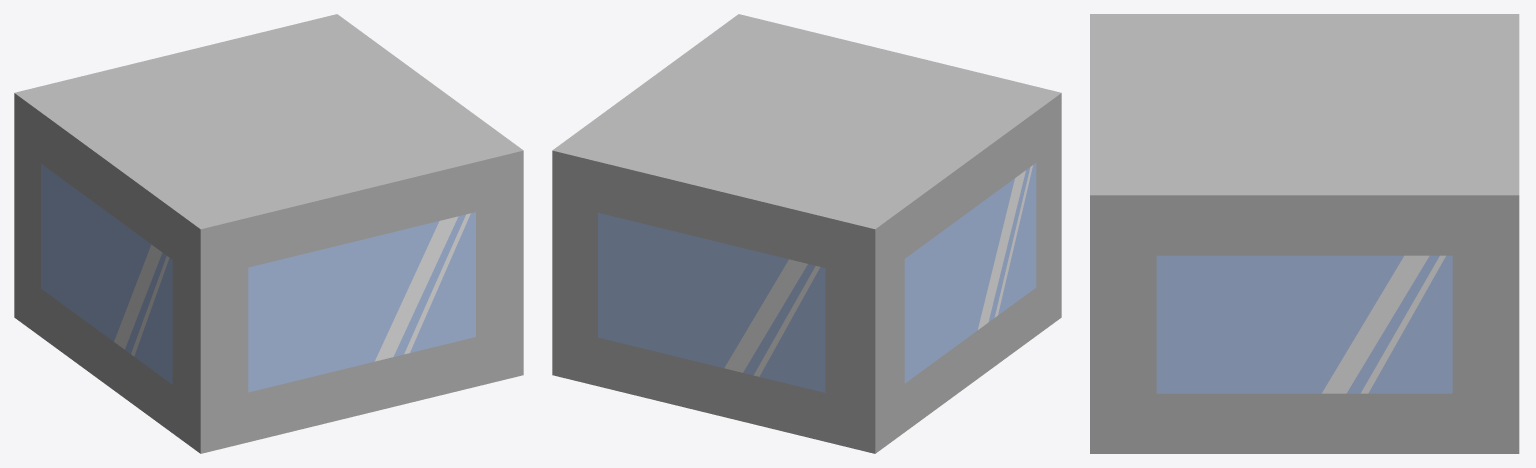
The model's file is BuildingBlock.glb.
3 views of the same model, side by side, from view 1: azimuth 30°, elevation 25°; view 2: azimuth 150°, elevation 25°; view 3: azimuth 270°, elevation 25° (orthographic). The views are drawn at different scales.
Visible parts, largest first — view 1: BuildingBlock; view 2: BuildingBlock; view 3: BuildingBlock.
Part boxes in pixels (left/top/right/bottom): BuildingBlock: left=14, top=14, right=523, bottom=453; BuildingBlock: left=552, top=14, right=1061, bottom=453; BuildingBlock: left=1090, top=14, right=1519, bottom=453.
Size of what is drawn, in the model's own units: 5.96 by 3.94 by 5.97.
